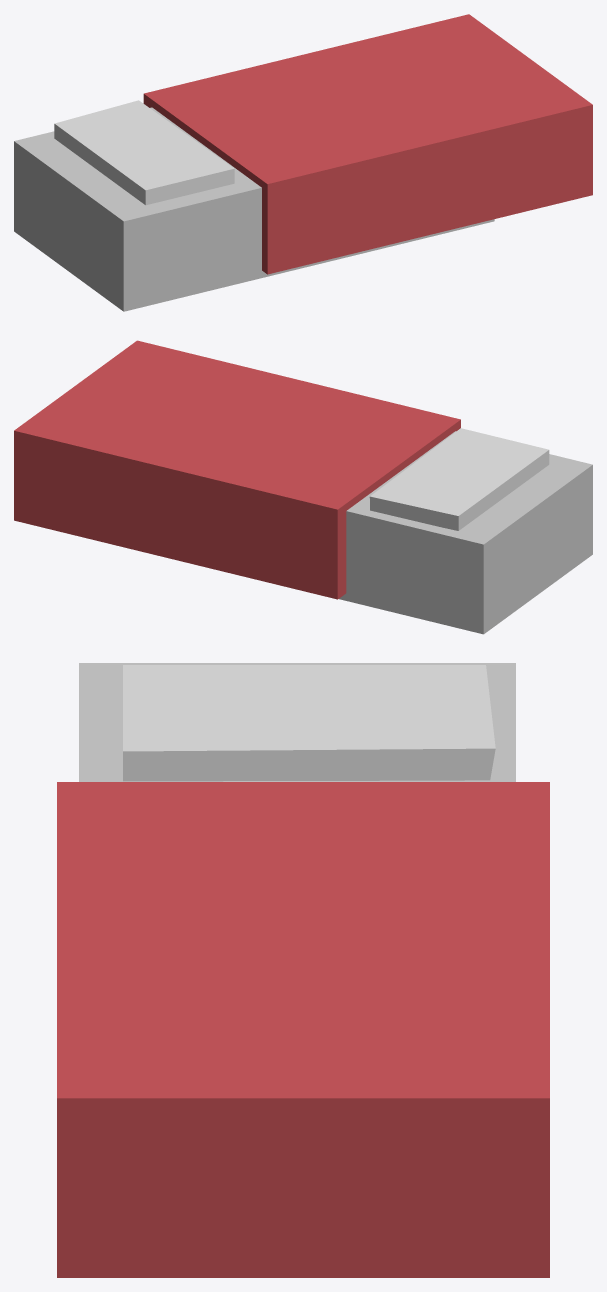
Rendered from bed.fbx.
3 renders of one model, top to bottom at view 1: azimuth 30°, elevation 25°; view 2: azimuth 150°, elevation 25°; view 3: azimuth 270°, elevation 25°, orthographic. The views are drawn at different scales.
Visible parts, largest first — view 1: Cube.002, Cube, Cube.001; view 2: Cube.002, Cube, Cube.001; view 3: Cube.002, Cube.001, Cube.
Part boxes in pixels (x1,y1,x2,y2): Cube.002: (143,14,592,274); Cube: (14,107,494,311); Cube.001: (54,100,234,205); Cube.002: (14,340,460,599); Cube: (339,431,592,634); Cube.001: (369,428,549,530); Cube.002: (57,782,549,1277); Cube.001: (123,665,495,781); Cube: (79,663,515,781).
Size of the model in its own units: 1074 by 234 by 497.
